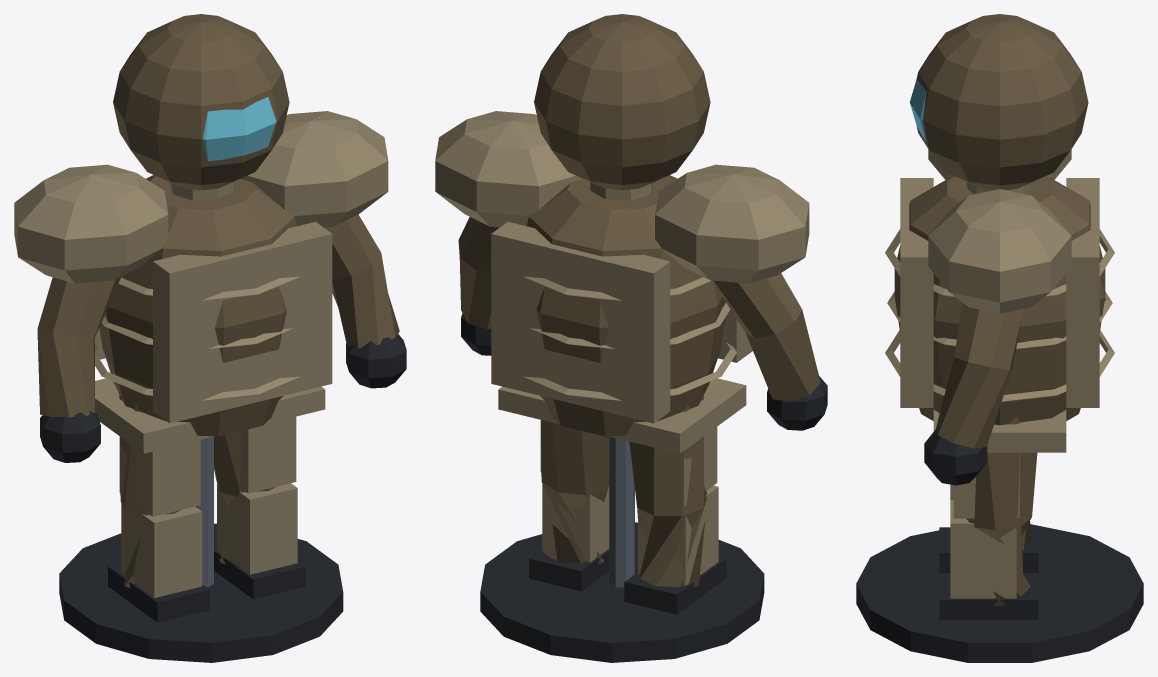
The model's file is durafiber-battle-armor.glb.
3 views of the same model, side by side, from view 1: azimuth 30°, elevation 25°; view 2: azimuth 150°, elevation 25°; view 3: azimuth 270°, elevation 25° (orthographic).
Visible parts, largest first — view 1: m; view 2: m; view 3: m.
Boxes of the visible parts, box(x1,y1,x2,y2) form: m: box(14, 14, 406, 662); m: box(435, 14, 827, 662); m: box(856, 14, 1143, 662).
Bounding box in the file's own units: 0.3701 × 0.56 × 0.251.
